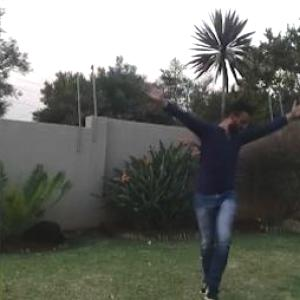takeoff: (145, 81, 299, 299)
